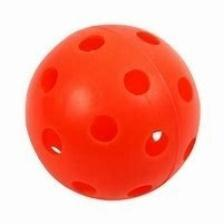Sports-Ball: (24, 22, 203, 203)
